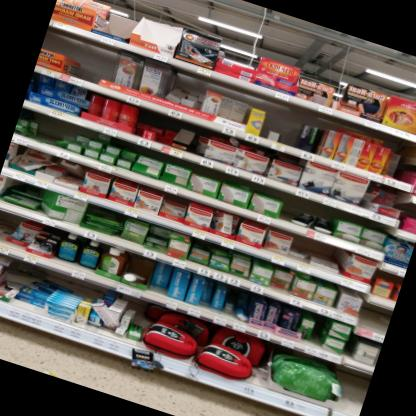empty_space: (129, 16, 183, 60), (72, 45, 116, 89), (99, 8, 136, 46), (276, 112, 304, 151), (361, 306, 391, 338)
